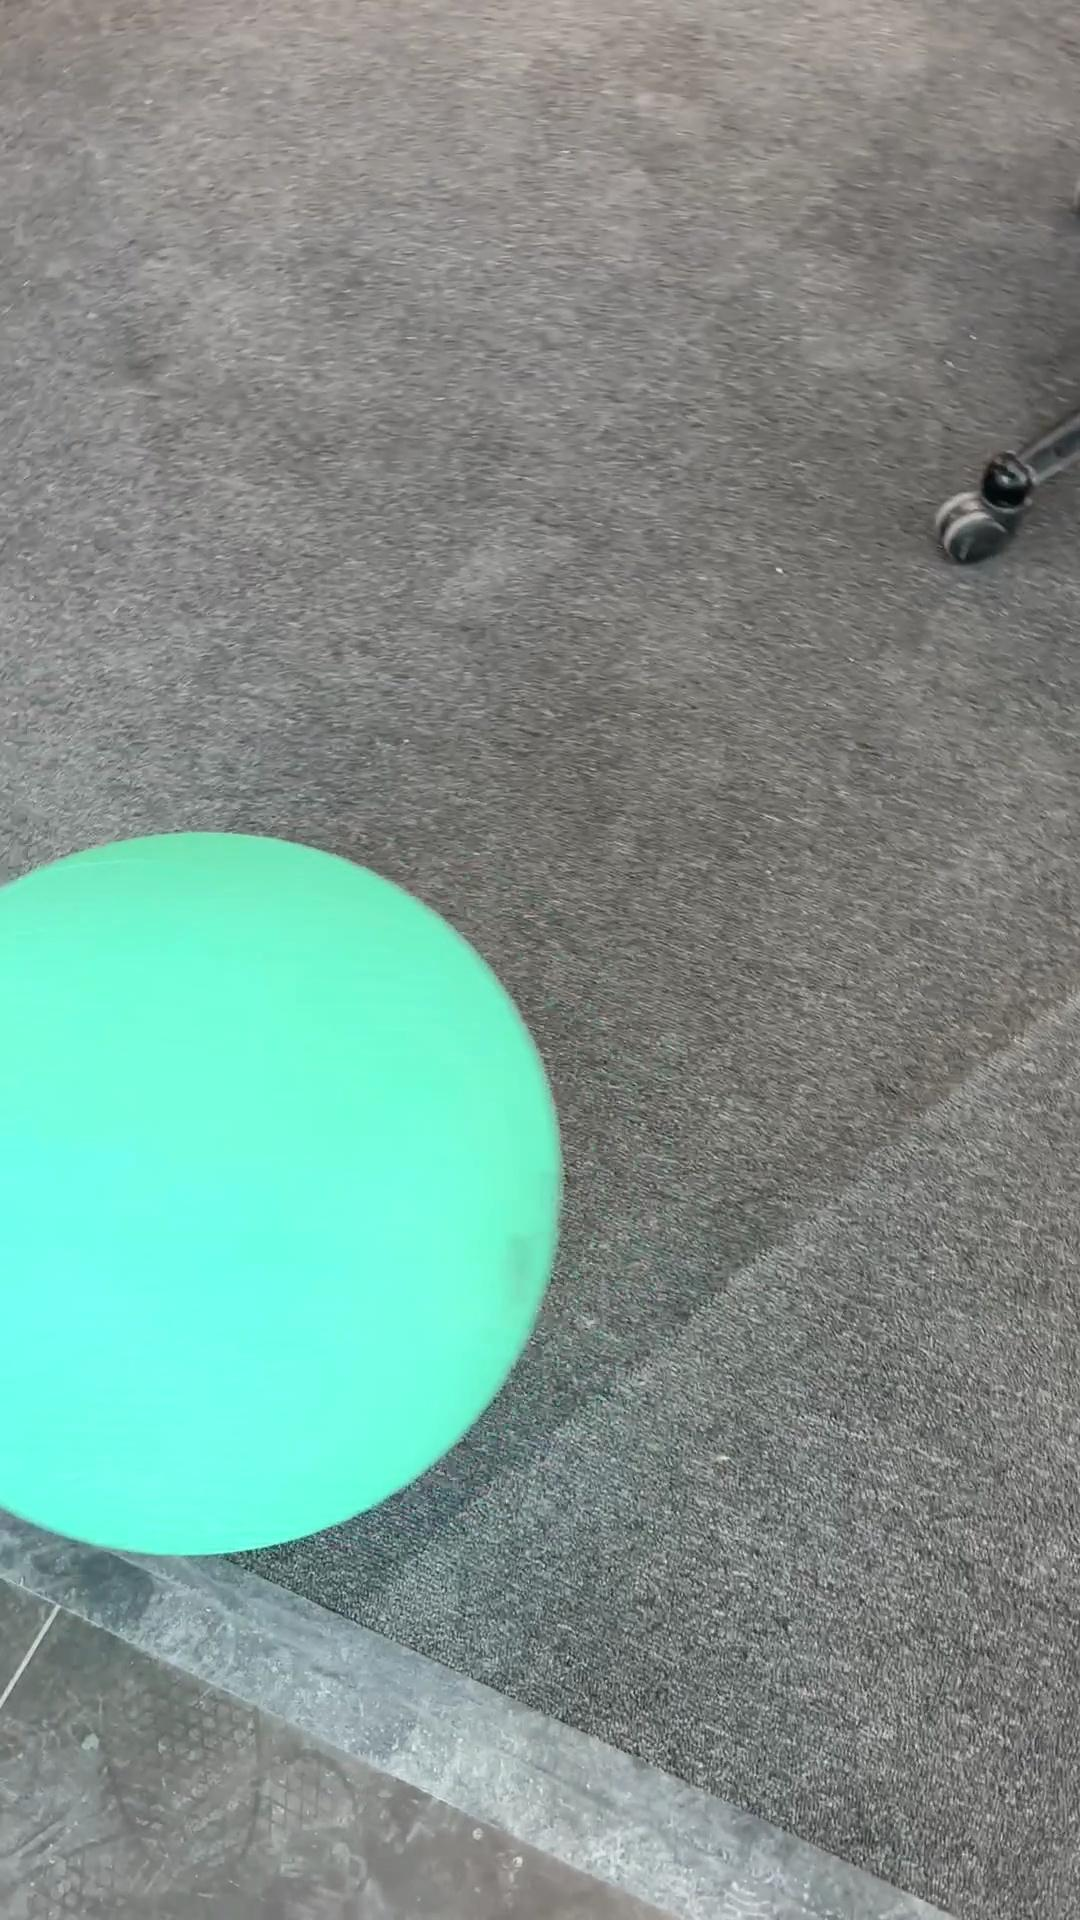ALGAE: (1, 827, 564, 1557)
